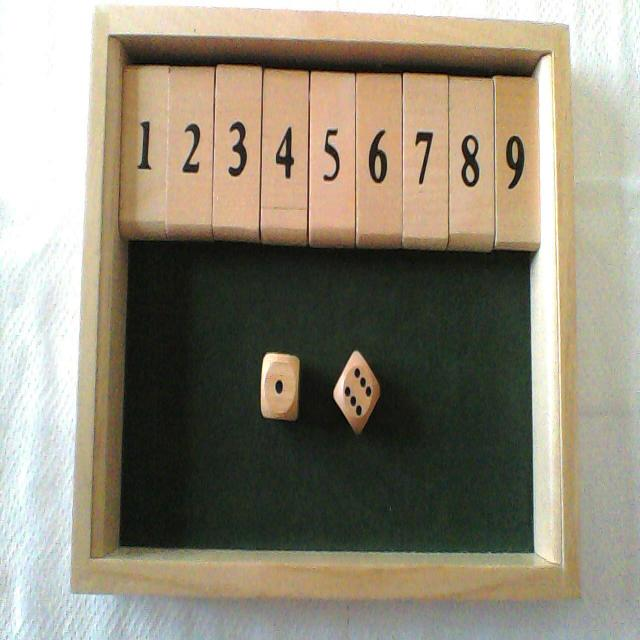1: (260, 345, 300, 426)
6: (331, 346, 384, 438)
C1: (120, 6, 165, 240)
C2: (167, 8, 212, 240)
C3: (214, 10, 259, 242)
C4: (263, 12, 307, 244)
C5: (310, 12, 354, 248)
C6: (356, 11, 401, 248)
C7: (403, 14, 448, 250)
C8: (450, 17, 493, 251)
C9: (496, 20, 540, 252)
